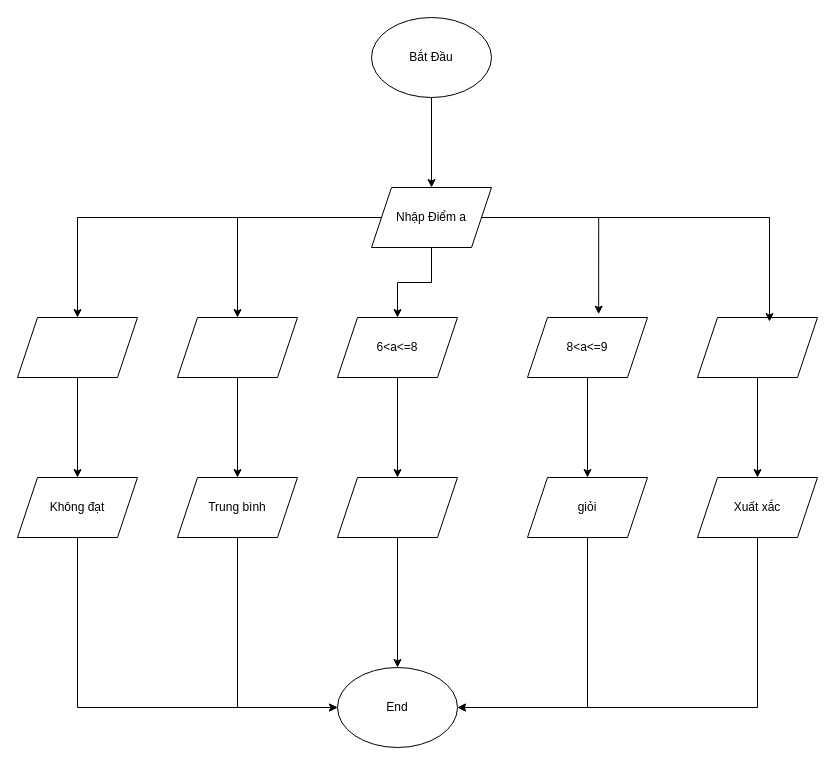
This 835x765 diagram has some shape labels left out. The box of each missing label's shape, as (x1, y1, x2, y2) in pixels:
4 <= a <=6: (176, 316, 298, 378)
9<a<=10: (696, 316, 818, 378)
a < 4: (16, 316, 138, 378)
Khá: (336, 476, 458, 538)
